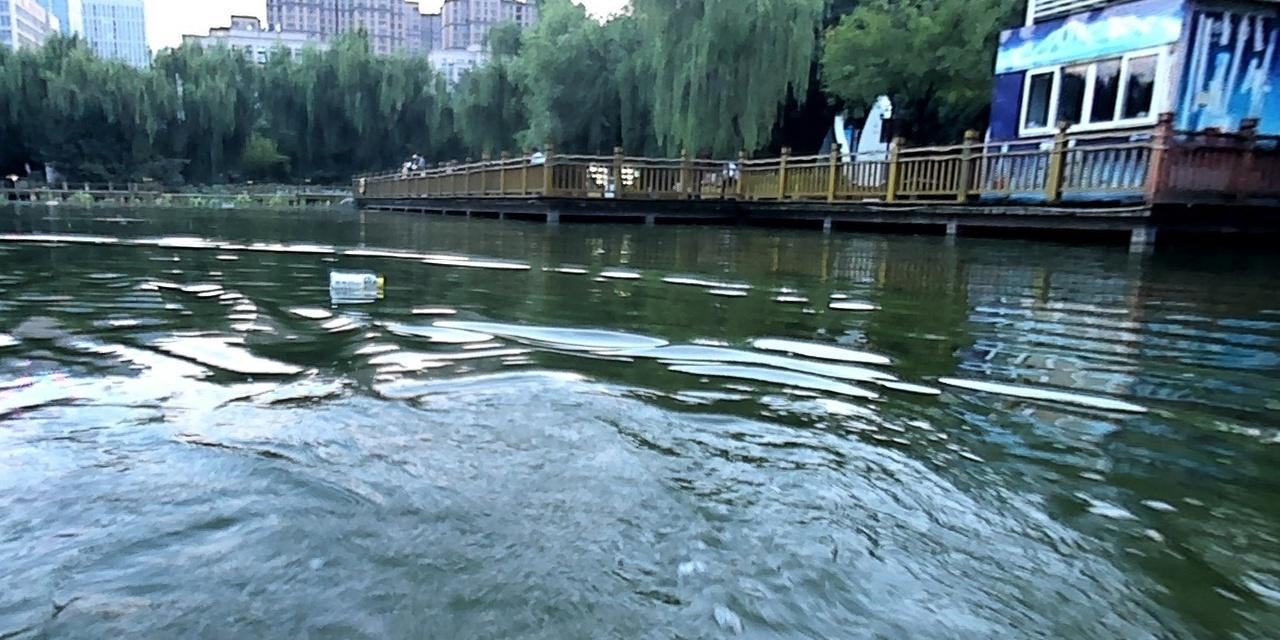bottle: (327, 270, 383, 293)
